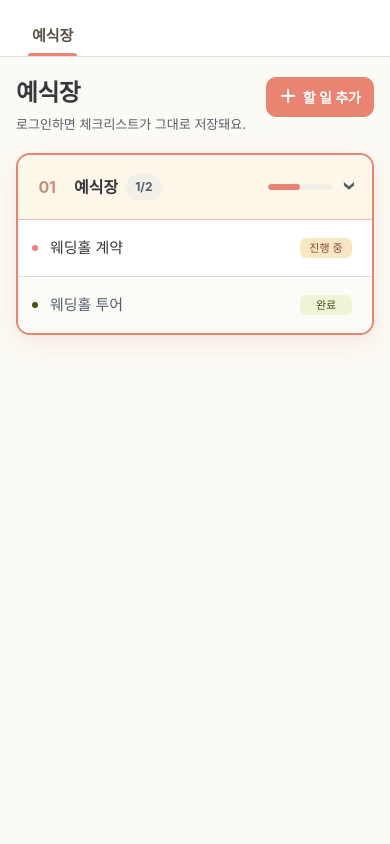
Scenario: Checklist 웹 상세 패널 › 모바일 바텀시트에서도 일정이 없으면 공통 빈 상태를 표시한다
Click the button "웨딩홀 투어 완료" at (86,305), box top-left (18, 277), bottom-right (372, 333)
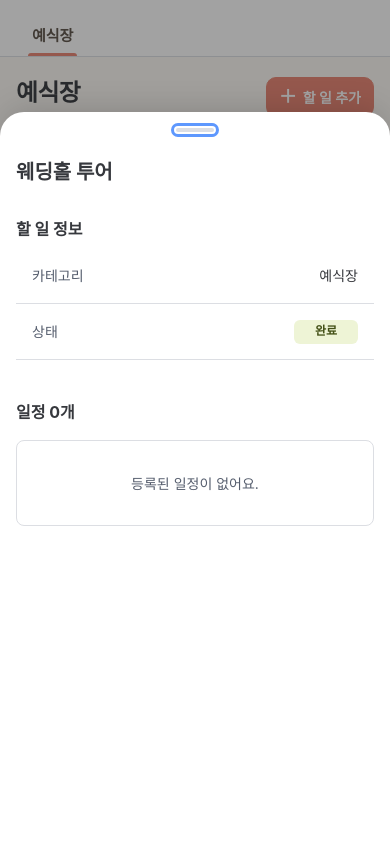
Expected: the heading "일정 0개" is shown, top-left (16, 401), bottom-right (75, 424)
Expected: the text "등록된 일정이 없어요." is shown, top-left (16, 440), bottom-right (374, 526)
